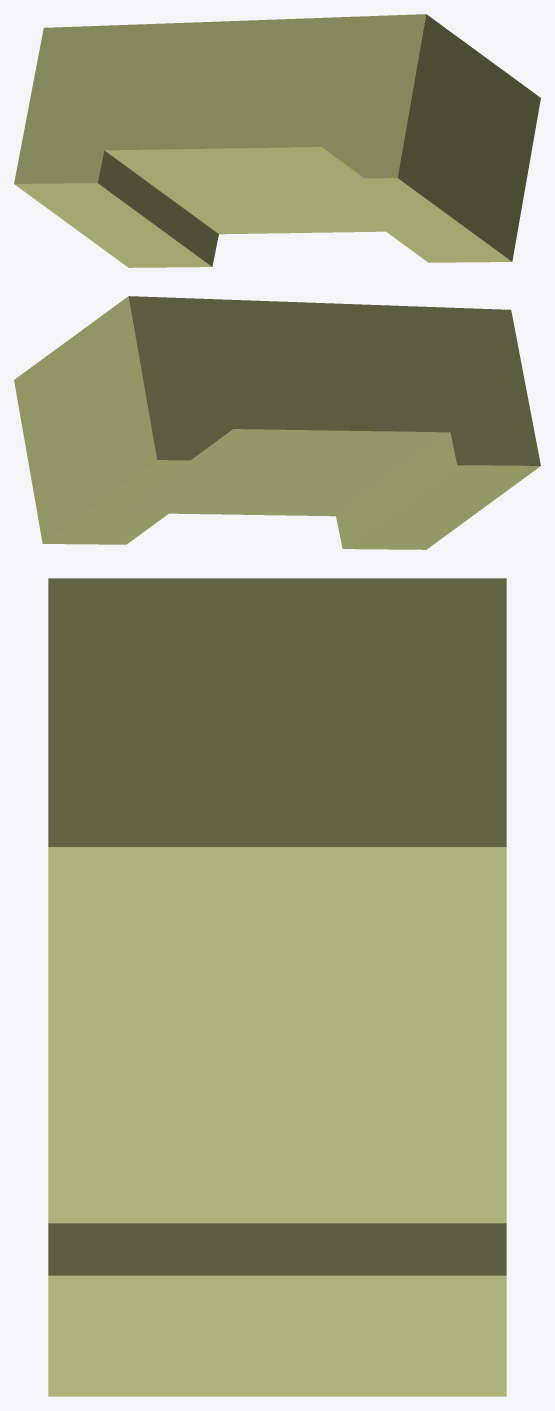
The picture shows the model from 3 angles, top to bottom: view 1: azimuth 30°, elevation 25°; view 2: azimuth 150°, elevation 25°; view 3: azimuth 270°, elevation 25°; orthographic projection. The views are drawn at different scales.
Visible parts, largest first — view 1: 0_0_1_3_1_2_3_1_2; view 2: 0_0_1_3_1_2_3_1_2; view 3: 0_0_1_3_1_2_3_1_2.
Boxes of the visible parts, x1,y1,x2,y2 form: 0_0_1_3_1_2_3_1_2: (14,14,540,267); 0_0_1_3_1_2_3_1_2: (14,296,540,549); 0_0_1_3_1_2_3_1_2: (48,578,506,1396).
Size of the model in its own units: 18.7 by 10.25 by 9.
